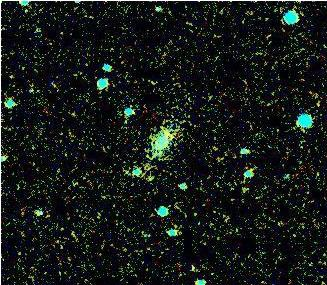star: (151, 117, 181, 147)
